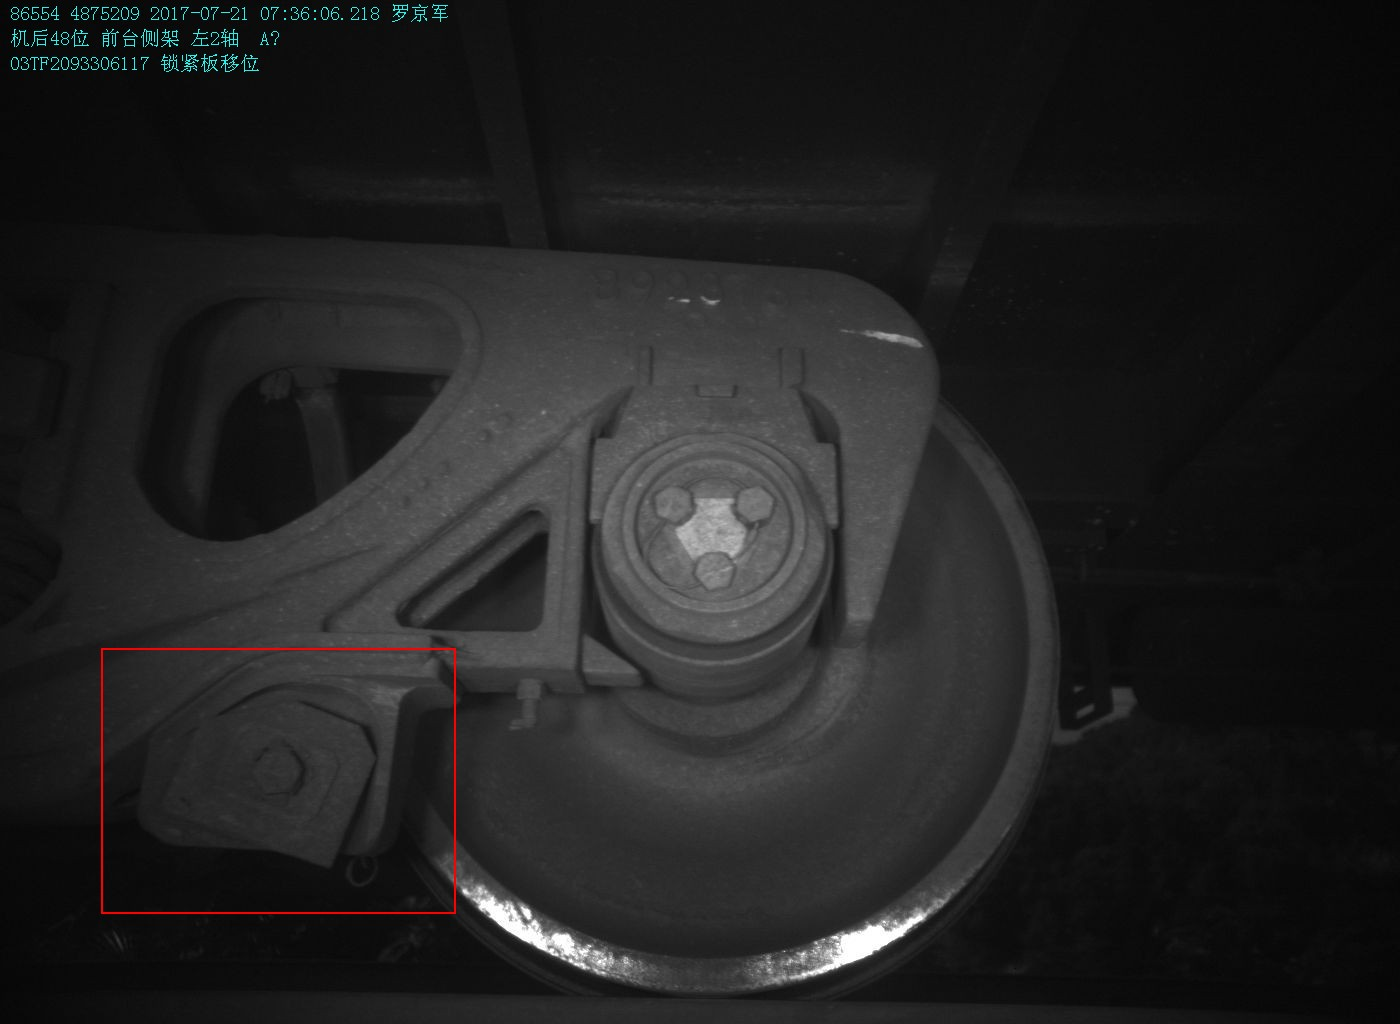locking plate: (139, 675, 400, 871)
